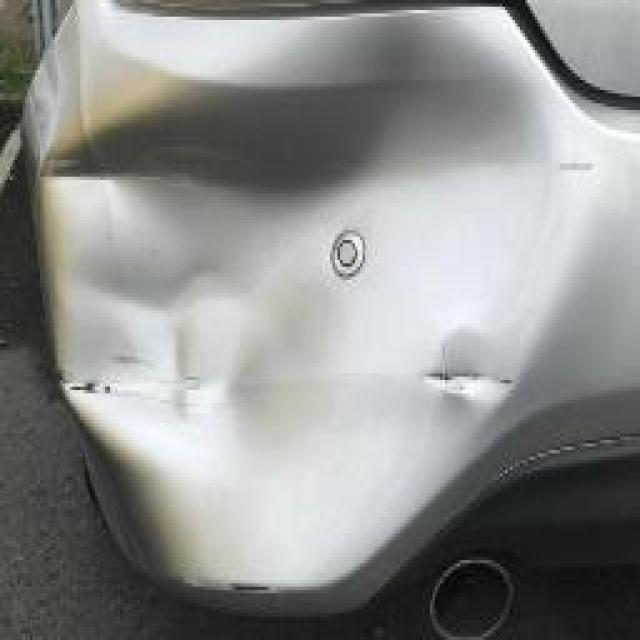Bumper: (52, 27, 588, 623)
